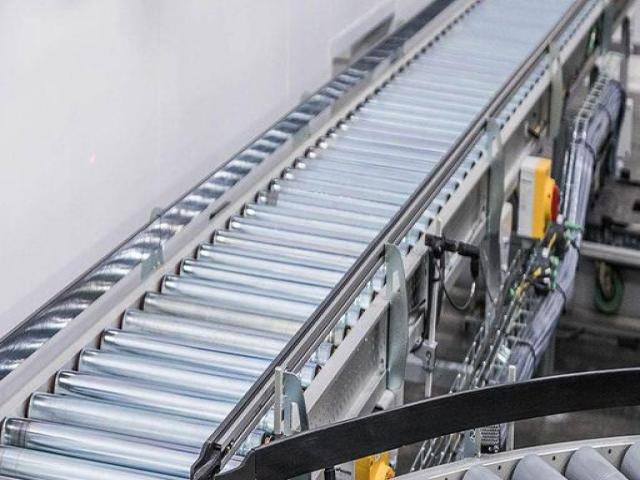conveyor: (0, 0, 626, 479)
